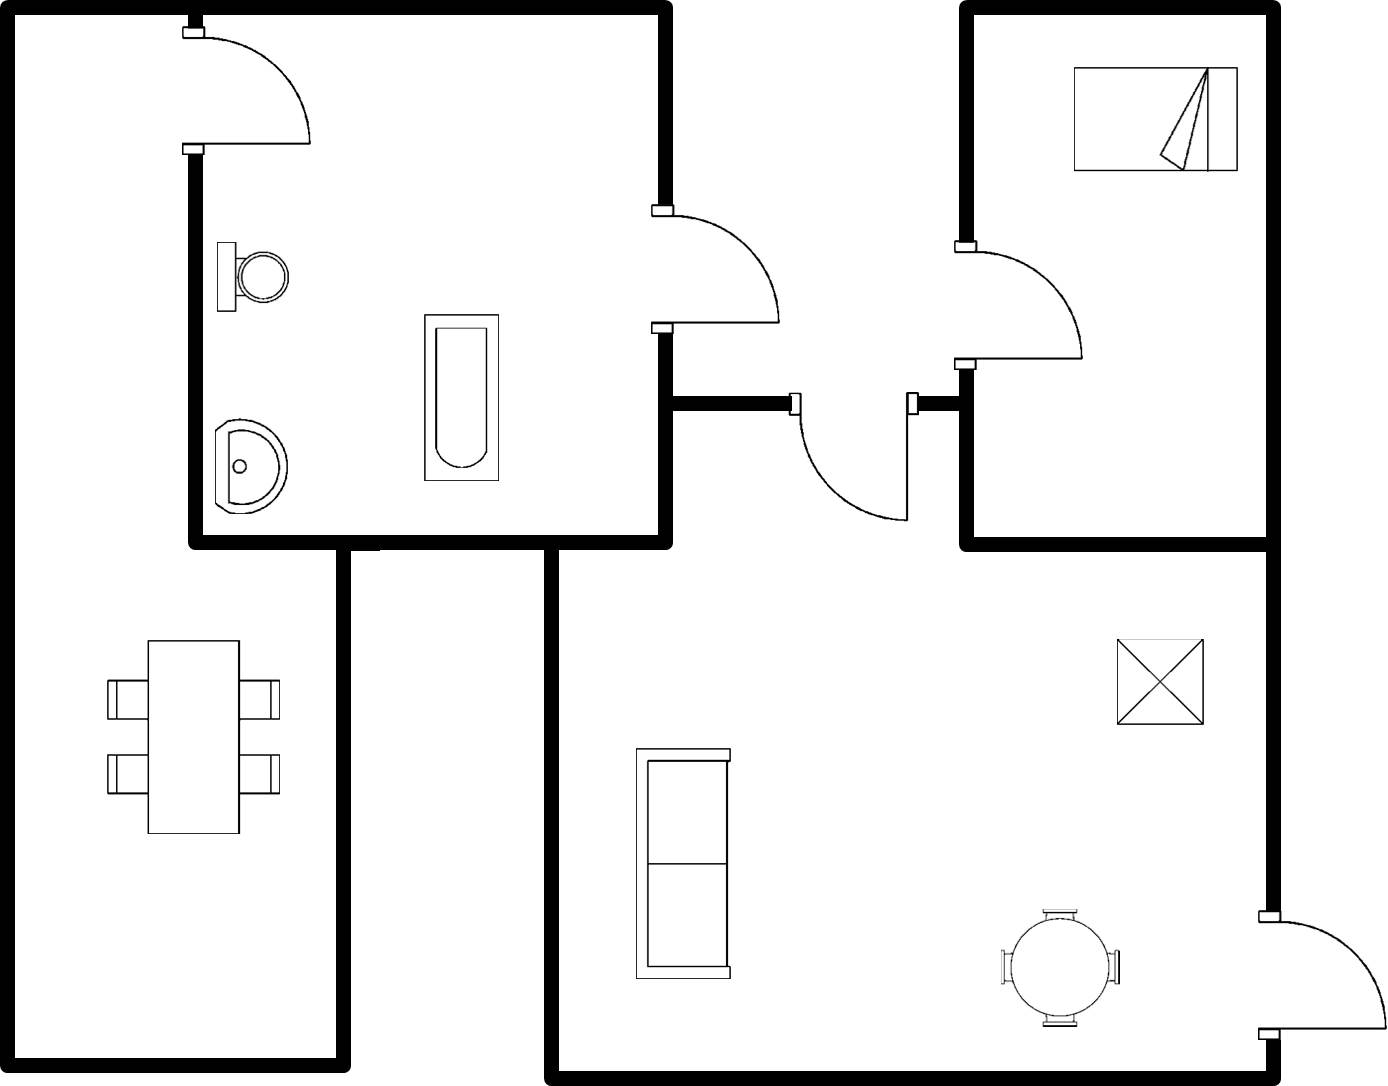bed: (1061, 57, 1249, 183)
coffee_table: (1108, 631, 1213, 733)
dining_table: (97, 631, 290, 842)
large_sink: (208, 233, 299, 320)
large_sofa: (627, 739, 745, 987)
round_table: (993, 899, 1134, 1035)
small_sink: (206, 411, 299, 523)
tub: (414, 304, 506, 491)
